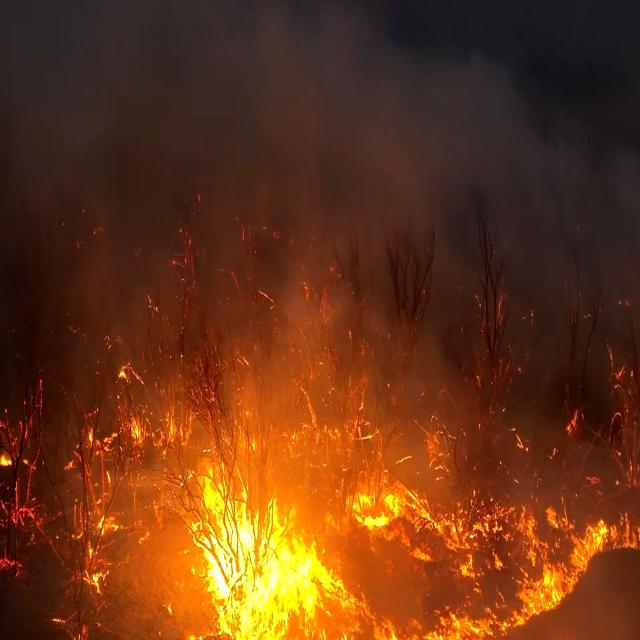fire: (201, 468, 333, 640)
smoke: (0, 0, 544, 249)
